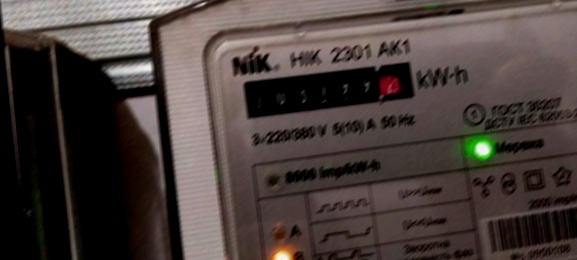0: (274, 86, 287, 106), (251, 90, 262, 109)
1: (317, 79, 328, 97)
3: (295, 84, 308, 105)
6: (384, 79, 395, 94)
9: (338, 75, 350, 96), (360, 75, 372, 94)
screen: (235, 52, 421, 125)
